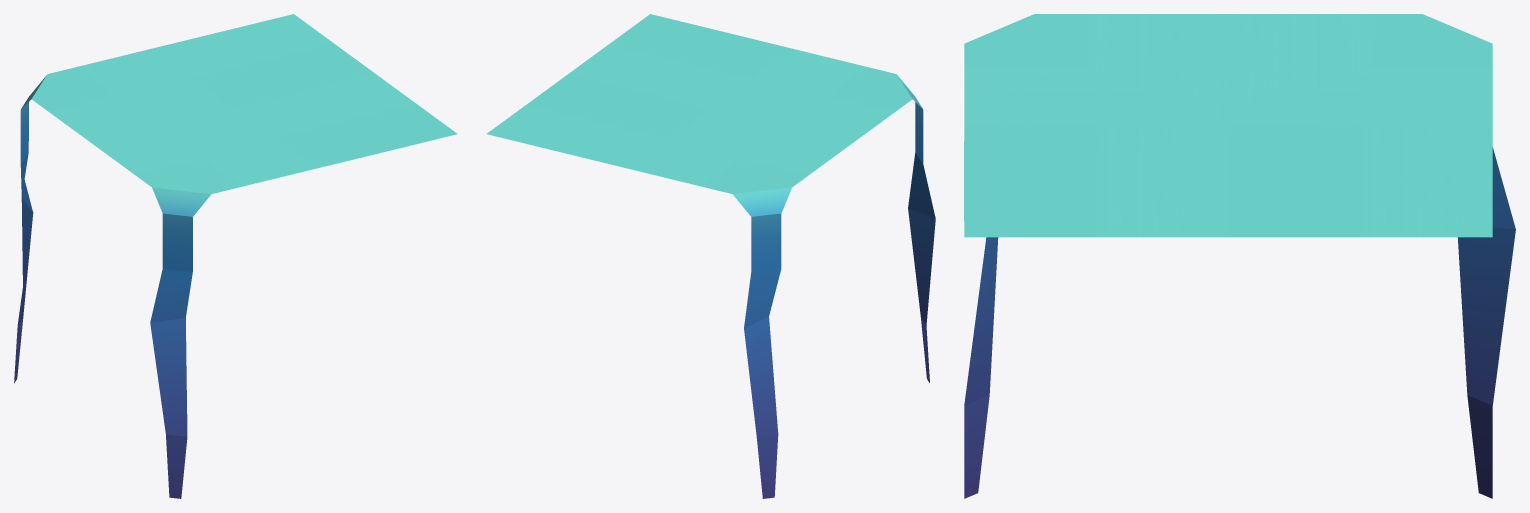
3 renders of one model, left to right at view 1: azimuth 30°, elevation 25°; view 2: azimuth 150°, elevation 25°; view 3: azimuth 270°, elevation 25°, orthographic. The views are drawn at different scales.
Visible parts, largest first — view 1: TopNoWalls.001, TopNoWalls.003, TopInnerCorner.003, TopInnerCorner.001, InnerCorner.003, InnerCorner.001; view 2: TopNoWalls.001, TopNoWalls.003, TopInnerCorner.001, TopInnerCorner.003, InnerCorner.001, InnerCorner.003; view 3: TopNoWalls.003, TopNoWalls.001, TopInnerCorner.001, TopInnerCorner.003, InnerCorner.001, InnerCorner.003.
Part boxes in pixels (x1,y1,x2,y2): TopNoWalls.001: (152, 14, 375, 108); TopNoWalls.003: (234, 74, 457, 168); TopInnerCorner.003: (92, 108, 315, 194); TopInnerCorner.001: (31, 48, 233, 143); InnerCorner.003: (150, 187, 210, 498); InnerCorner.001: (14, 75, 46, 383); TopNoWalls.001: (486, 74, 709, 168); TopNoWalls.003: (569, 14, 791, 108); TopInnerCorner.001: (628, 109, 851, 194); TopInnerCorner.003: (710, 48, 912, 143); InnerCorner.001: (733, 187, 791, 498); InnerCorner.003: (897, 75, 935, 382); TopNoWalls.003: (964, 125, 1228, 237); TopNoWalls.001: (1228, 125, 1492, 237); TopInnerCorner.001: (1228, 14, 1492, 125); TopInnerCorner.003: (964, 14, 1228, 125); InnerCorner.001: (1457, 147, 1515, 498); InnerCorner.003: (964, 237, 998, 498).
Size of the model in its own units: 626 by 600 by 627.
